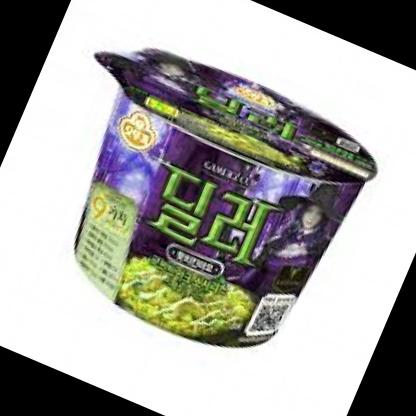Ramen: (28, 30, 397, 390)
